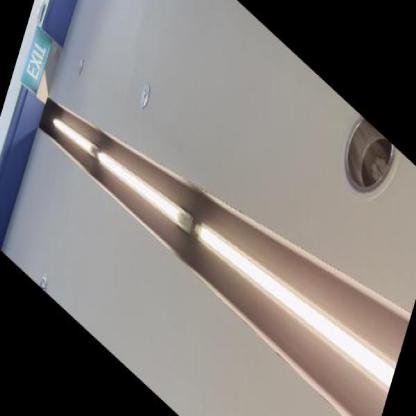light_on: (192, 179, 399, 414), (91, 129, 193, 249), (48, 95, 99, 163)
